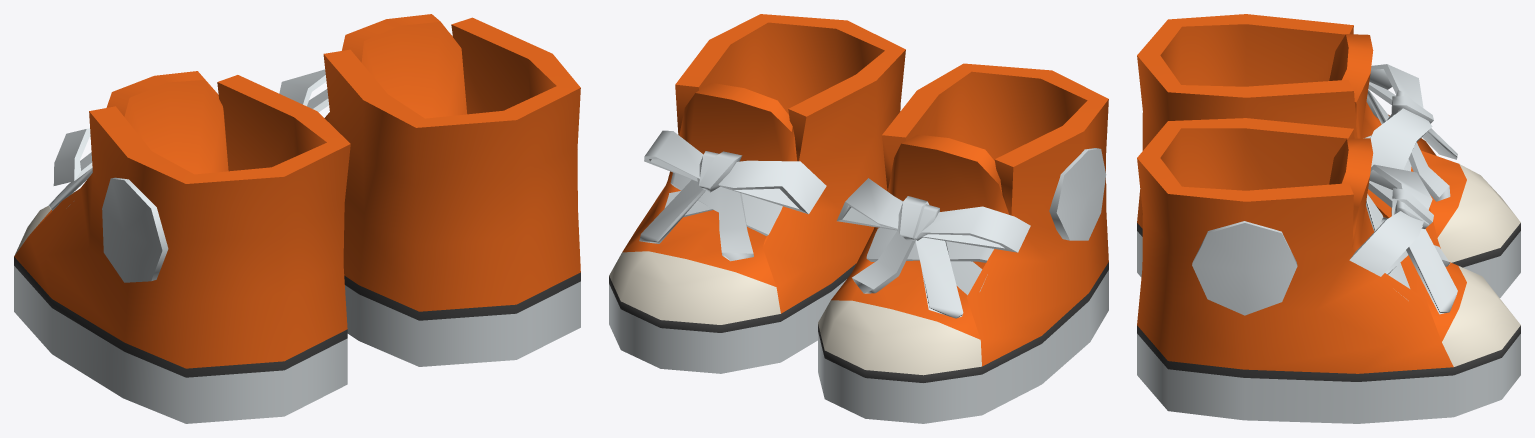
Rendered from Shoes_2.fbx.
3 renders of one model, left to right at view 1: azimuth 30°, elevation 25°; view 2: azimuth 150°, elevation 25°; view 3: azimuth 270°, elevation 25°, orthographic. The views are drawn at different scales.
Visible parts, largest first — view 1: Shoes_2; view 2: Shoes_2; view 3: Shoes_2.
Part boxes in pixels (x1,y1,x2,y2): Shoes_2: (14, 14, 580, 423); Shoes_2: (609, 14, 1108, 423); Shoes_2: (1137, 14, 1520, 423).
Size of the model in its own units: 39.4 by 20.66 by 31.94.
